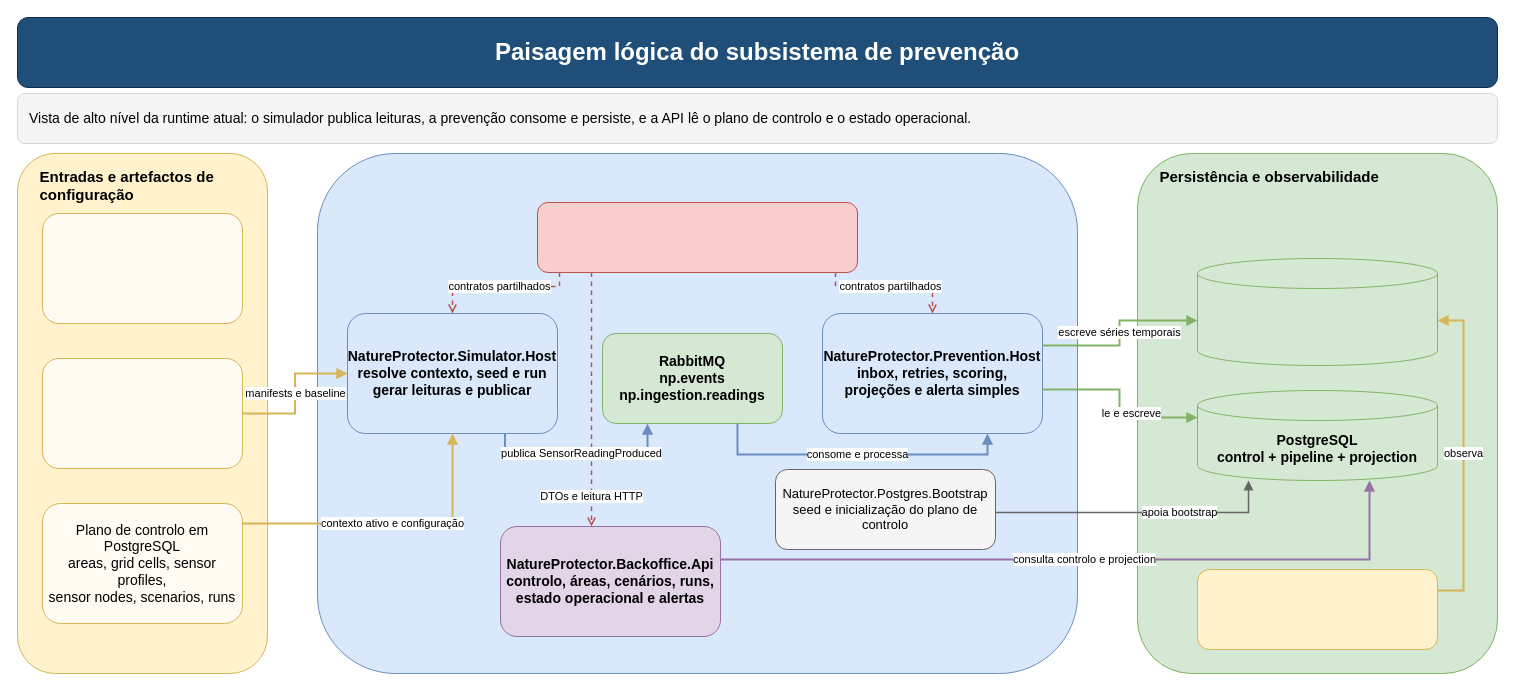
This 1515x691 diagram has some shape labels left out. The box of each missing label's shape, as (x1, y1, x2, y2) in pixels:
data/baseline areas, weather reference, scenario candidates: (42, 212, 242, 324)
data/manifests dataset plan manifests de cenário A/B/C: (42, 358, 242, 468)
Grafana e evidência operacional dashboards e leitura histórica: (1196, 568, 1438, 650)
InfluxDB accepted readings, risk assessments, area risk snapshots: (1196, 258, 1438, 366)
NatureProtector.Shared EventEnvelope, event types, routing keys, payloads: (536, 202, 858, 272)
Runtime atual do subsistema: (316, 152, 1078, 674)
